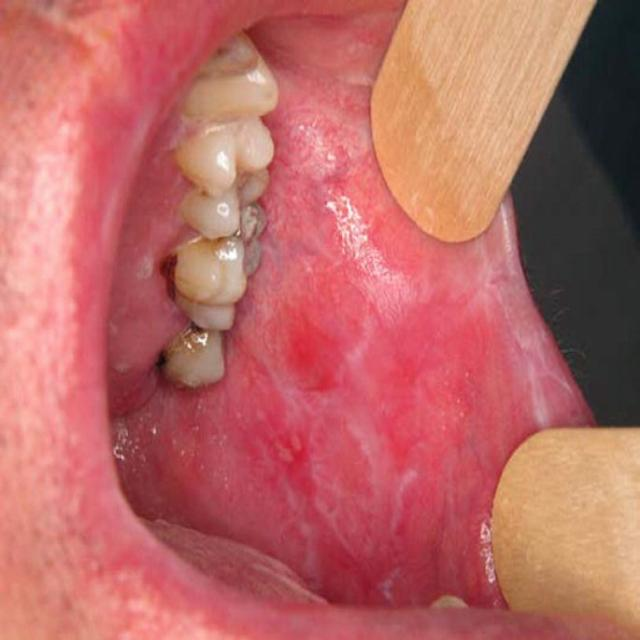leukoplakia-like-detection: (138, 23, 571, 607)
processing_area: (80, 0, 598, 631)
